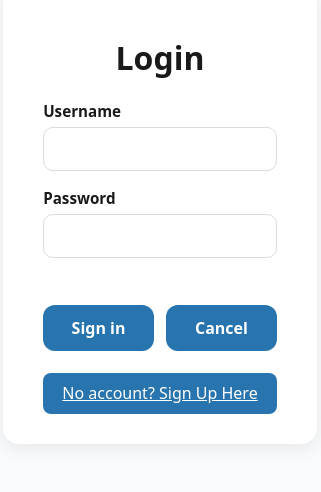
Test: Test when user is not logged in › displays error if username is empty
Click the button "Sign in": coordinates (99, 328) [43,304,154,350]
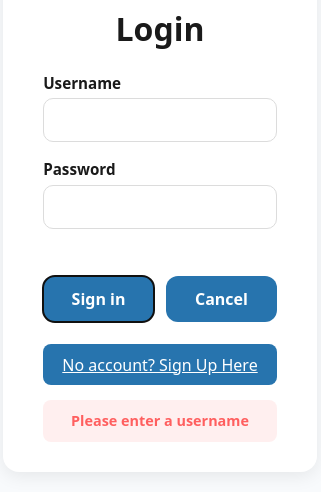
Expected: the text "Please enter a username" is shown, [43,400,277,442]
